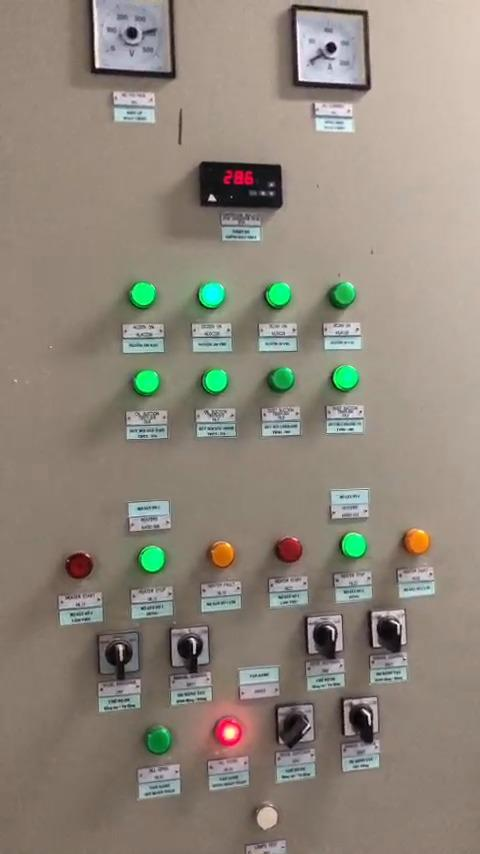led: (144, 725, 178, 758), (62, 551, 94, 581), (214, 716, 245, 746), (329, 279, 359, 309), (274, 535, 303, 565), (197, 281, 226, 310), (330, 364, 358, 394), (402, 529, 430, 559), (130, 280, 158, 309), (339, 530, 366, 560), (207, 539, 234, 569), (269, 368, 296, 396), (264, 283, 293, 309), (137, 545, 163, 574), (200, 369, 229, 394), (253, 806, 281, 830), (135, 368, 161, 392)
twist: (97, 632, 139, 678), (274, 703, 314, 748), (170, 625, 209, 669), (303, 616, 343, 658), (370, 610, 408, 650), (344, 698, 380, 740)
